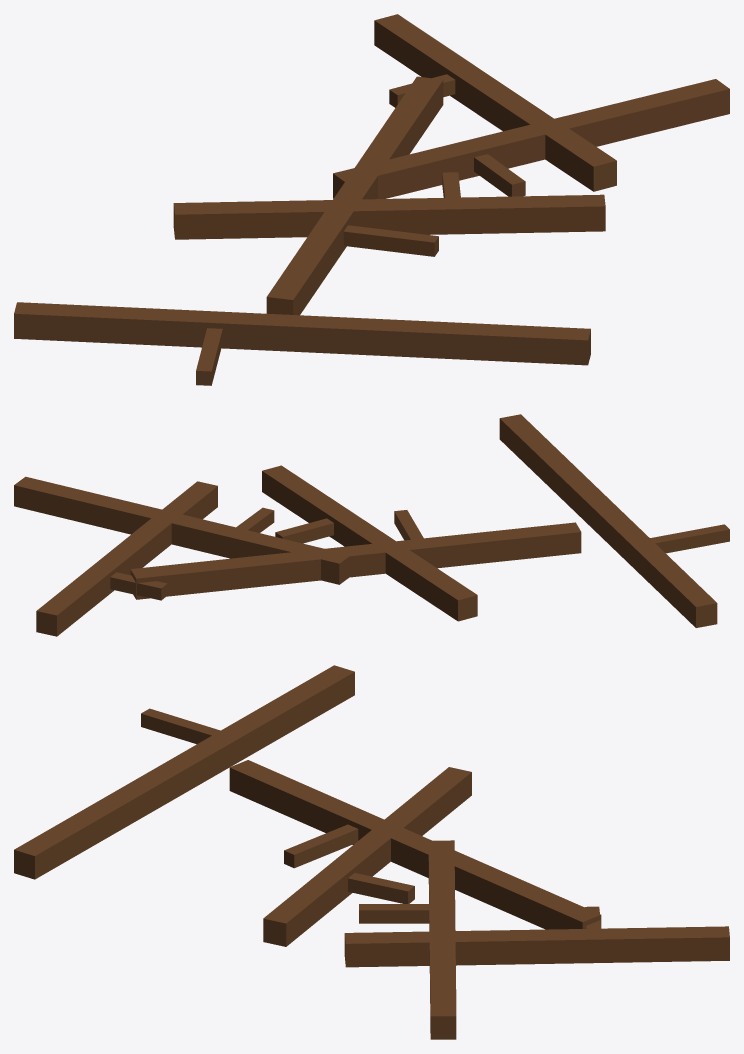
File: Sticks.fbx
The picture shows the model from 3 angles, top to bottom: view 1: azimuth 30°, elevation 25°; view 2: azimuth 150°, elevation 25°; view 3: azimuth 270°, elevation 25°; orthographic projection. The views are drawn at different scales.
Parts seen in each view (by area): view 1: Sticks; view 2: Sticks; view 3: Sticks.
Boxes of the visible parts, x1,y1,x2,y2 form: Sticks: (14,14,729,385); Sticks: (14,414,729,636); Sticks: (14,665,729,1039).
Size of the model in its own units: 1.12 by 0.035 by 0.9676.
